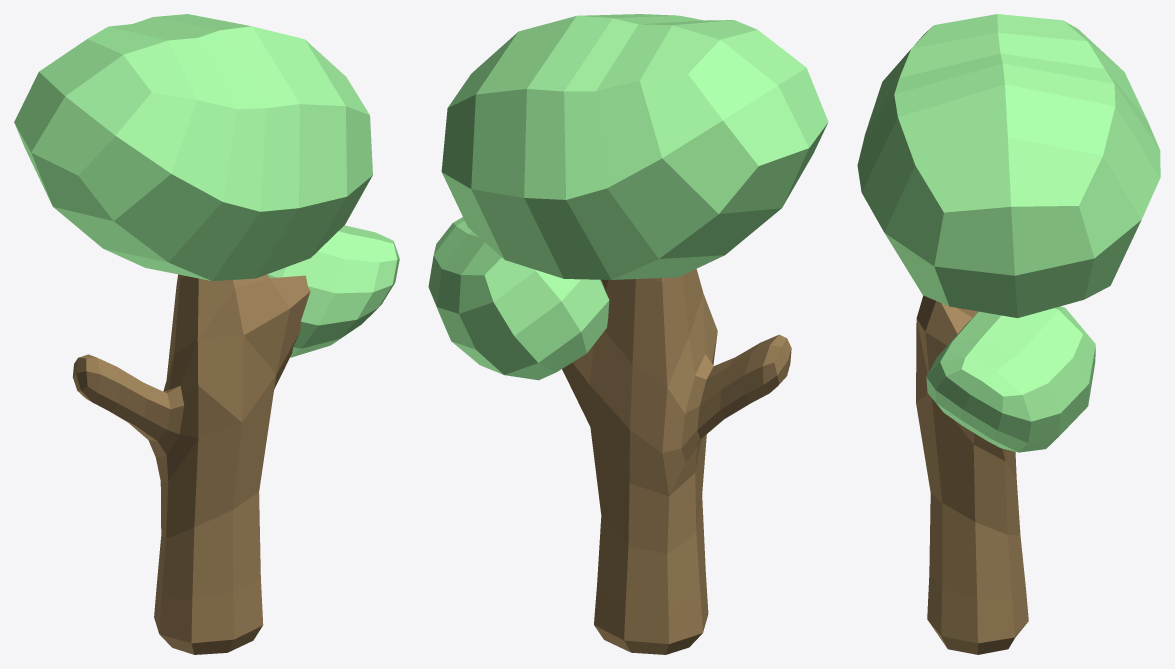
The model's file is tree(people).fbx.
The picture shows the model from 3 angles, left to right: view 1: azimuth 30°, elevation 25°; view 2: azimuth 150°, elevation 25°; view 3: azimuth 270°, elevation 25°; orthographic projection. The views are drawn at different scales.
Visible parts, largest first — view 1: Tree_winding_01; view 2: Tree_winding_01; view 3: Tree_winding_01.
Part boxes in pixels (x1,y1,x2,y2): Tree_winding_01: (14,14,399,654); Tree_winding_01: (428,14,828,654); Tree_winding_01: (857,14,1160,654).
Bounding box in the file's own units: 135 × 218 × 101.
